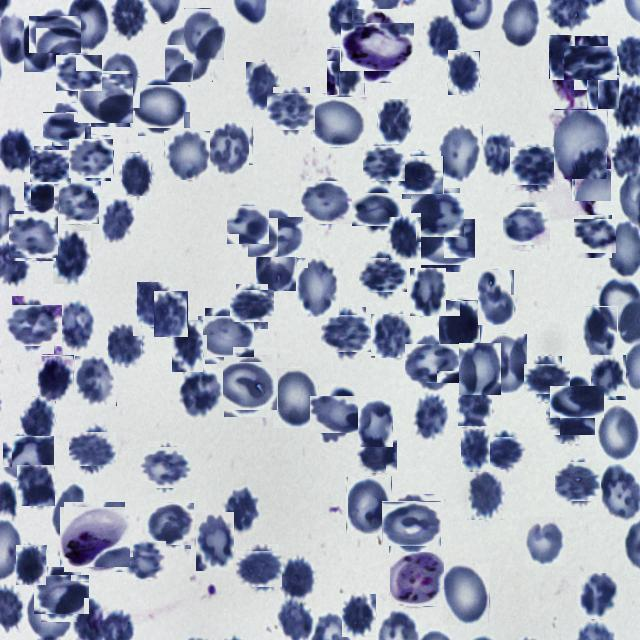red blood cell: (554, 109, 608, 179), (220, 359, 276, 414), (443, 562, 491, 625), (313, 96, 367, 150), (418, 214, 472, 268), (165, 22, 213, 82), (273, 367, 320, 428), (79, 73, 132, 125), (134, 80, 186, 132), (386, 498, 438, 550), (296, 257, 341, 317), (346, 476, 392, 534), (206, 120, 254, 175), (437, 124, 482, 182), (483, 334, 527, 393), (596, 405, 640, 464), (8, 300, 58, 350), (413, 190, 462, 240), (439, 300, 481, 358), (202, 312, 250, 361), (304, 179, 352, 227), (315, 390, 363, 438), (252, 212, 300, 260), (5, 434, 53, 482), (10, 212, 58, 260), (163, 131, 210, 180), (50, 482, 88, 542), (256, 234, 296, 291), (100, 51, 140, 108), (408, 339, 456, 386), (37, 571, 85, 618), (178, 368, 223, 418), (196, 512, 234, 571), (143, 444, 190, 491), (572, 146, 612, 201), (459, 343, 501, 395), (75, 355, 117, 406), (184, 8, 225, 60), (324, 310, 370, 356), (147, 502, 193, 548), (24, 17, 62, 72), (478, 269, 515, 325), (525, 518, 566, 568), (33, 12, 78, 57), (53, 231, 91, 284), (371, 313, 415, 358), (578, 572, 620, 619), (56, 180, 100, 224), (569, 41, 613, 85), (556, 380, 600, 424), (467, 470, 505, 520), (58, 300, 96, 350), (556, 460, 600, 503), (512, 145, 556, 188), (583, 306, 618, 359), (270, 90, 313, 133), (327, 48, 365, 96), (240, 548, 282, 591), (506, 205, 548, 248), (400, 154, 442, 197), (587, 55, 620, 109), (356, 188, 398, 230), (362, 254, 404, 296), (58, 52, 100, 94), (70, 138, 112, 180), (426, 16, 462, 64), (410, 268, 446, 316), (99, 197, 136, 243), (72, 428, 113, 469), (228, 204, 268, 246), (20, 396, 56, 442), (38, 355, 74, 401), (591, 354, 627, 400), (358, 400, 393, 447), (550, 399, 590, 440), (125, 541, 166, 581), (17, 464, 56, 506), (246, 62, 280, 110), (413, 394, 449, 439), (172, 320, 203, 372), (364, 143, 404, 183), (137, 282, 172, 327), (154, 291, 188, 337), (378, 99, 412, 144), (48, 108, 86, 148), (232, 288, 272, 326), (224, 486, 257, 532), (576, 217, 614, 256), (108, 324, 143, 366), (342, 594, 376, 637), (484, 133, 517, 177), (528, 360, 566, 398), (32, 148, 70, 186), (458, 386, 492, 428), (448, 51, 480, 95), (461, 426, 491, 472), (389, 217, 421, 260), (358, 438, 396, 474), (277, 600, 312, 639), (282, 554, 313, 598), (487, 434, 524, 470), (122, 152, 152, 196), (549, 34, 576, 80), (16, 545, 47, 585), (25, 181, 59, 215)
trophozoite: (62, 504, 127, 570), (346, 16, 408, 78), (390, 552, 444, 607)
